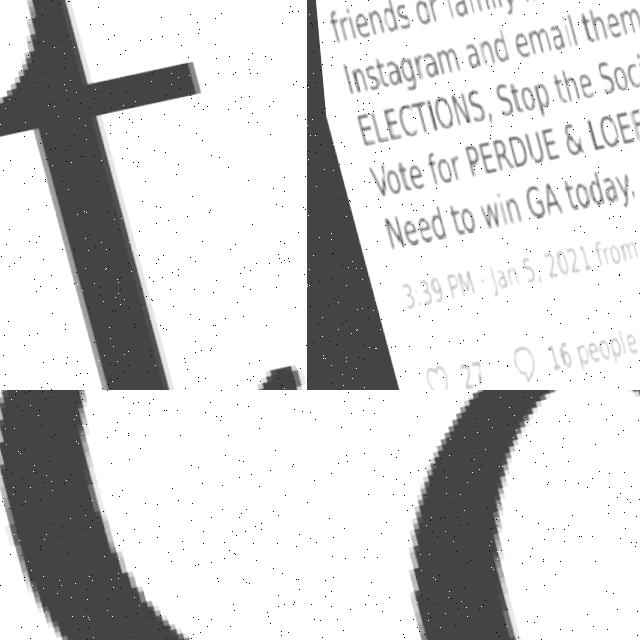0: (543, 249, 560, 278)
1: (533, 344, 550, 372), (566, 243, 581, 273)
2: (532, 250, 549, 280), (446, 362, 462, 389), (555, 247, 571, 273)
3: (407, 277, 423, 305), (389, 281, 404, 308)
5: (509, 256, 526, 285)
6: (545, 341, 562, 370)
7: (457, 360, 473, 387)
9: (416, 276, 434, 304)
C: (400, 390, 586, 640)
T: (0, 0, 307, 390)
